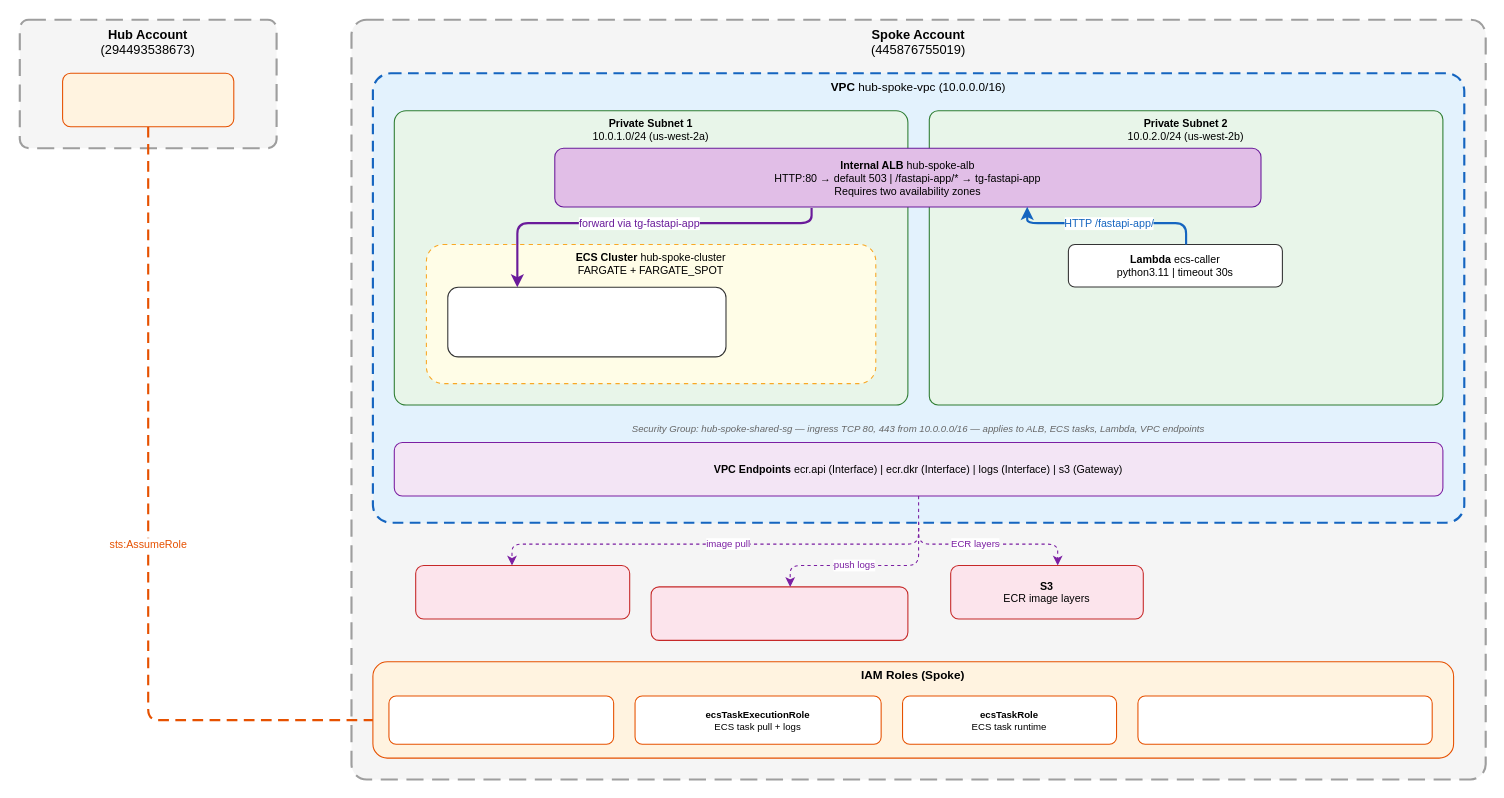
The diagram is 1504 pixels wide and 798 high, and some of its shapes have lost their labels. Here are the shapes that lost their labels. From the top down, the centre of each, then its label:
pixel 148 99: HubECSRole IAM Role
pixel 586 321: ECS Fargate Service fastapi-app (256 CPU / 512 MEM) Image: apps:fastapi-app-v1
pixel 522 591: ECR Repository: apps
pixel 779 613: CloudWatch Logs /ecs/fastapi-app
pixel 501 719: SpokeECSRole trusts HubECSRole
pixel 1284 719: ecs-caller-lambda-role VPC access execution
